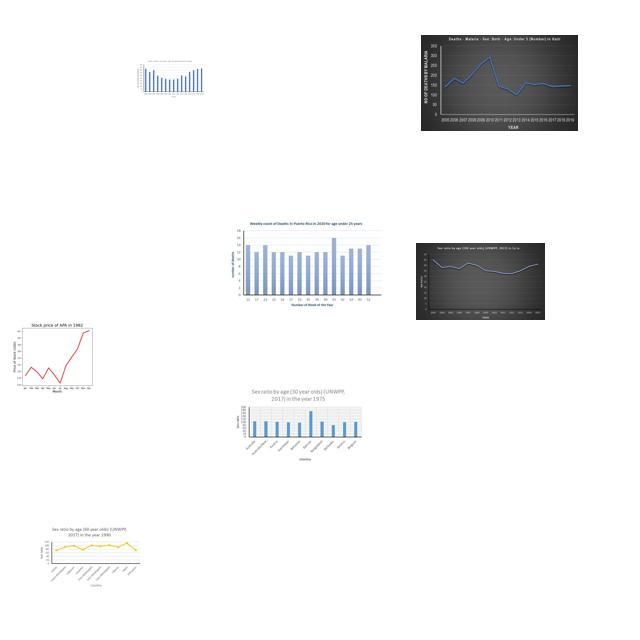Graph: (421, 35, 578, 131), (228, 219, 385, 311), (233, 387, 364, 463), (416, 243, 545, 320), (6, 319, 106, 394), (37, 525, 142, 590), (135, 59, 205, 99)
